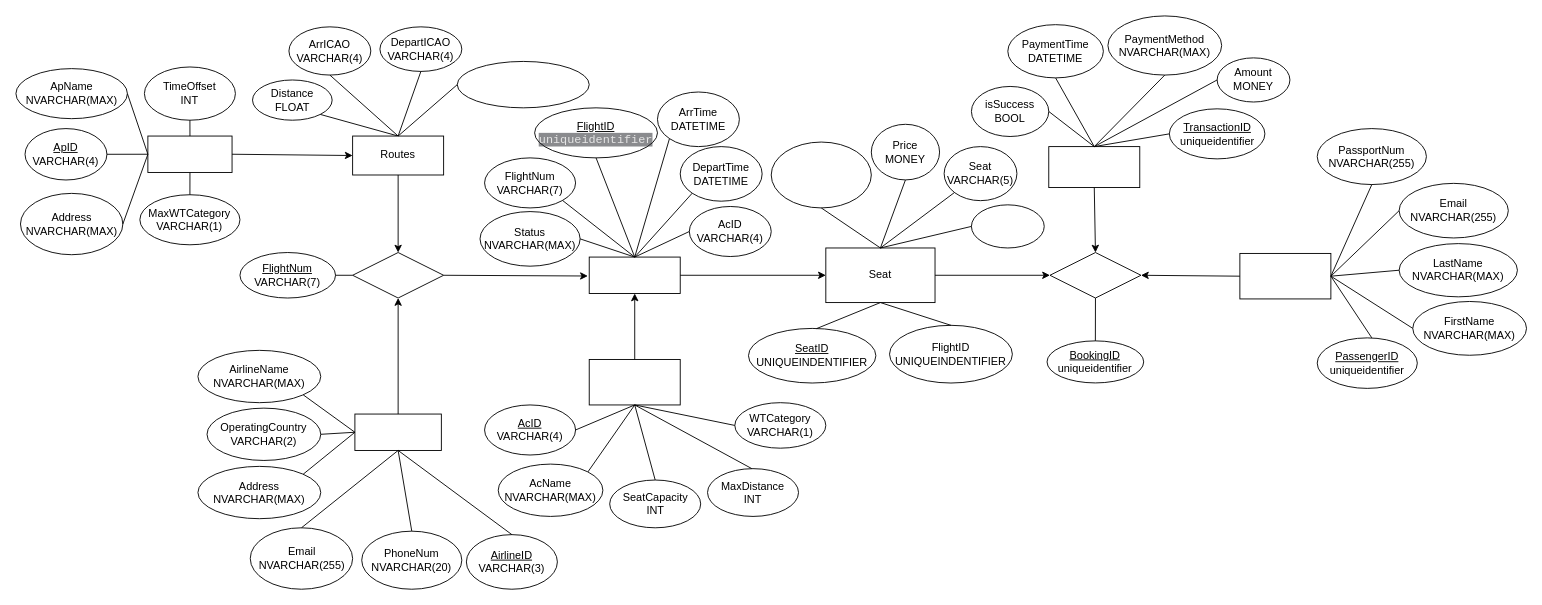
The diagram is 1542 pixels wide and 605 high, and some of its shapes have lost their labels. The centre of each missing label's shape, as x and y in pixels:
"AircraftTypes" goes at [634,382].
"Airlines" goes at [397,431].
"Airports" goes at [189,153].
"Booking" goes at [1095,275].
"Description NVARCHAR(MAX)" goes at [820,174].
"FlightInstances" goes at [634,274].
"FlightNums" goes at [398,275].
"isOccupied BOOL" goes at [1007,226].
"Passengers" goes at [1285,276].
"RouteID uniqueidentifier" goes at [522,84].
"Transactions" goes at [1094,167].
